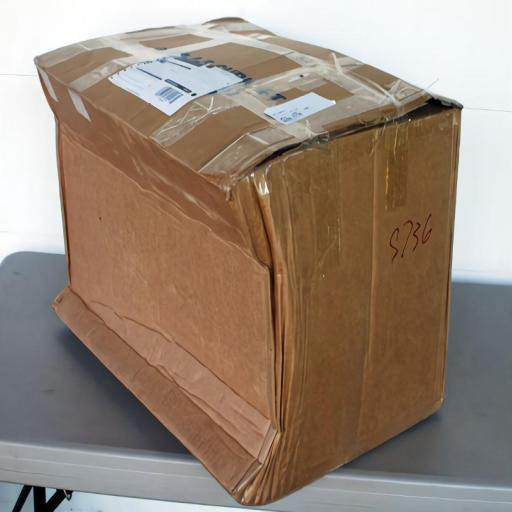cardboard: (33, 16, 463, 508)
